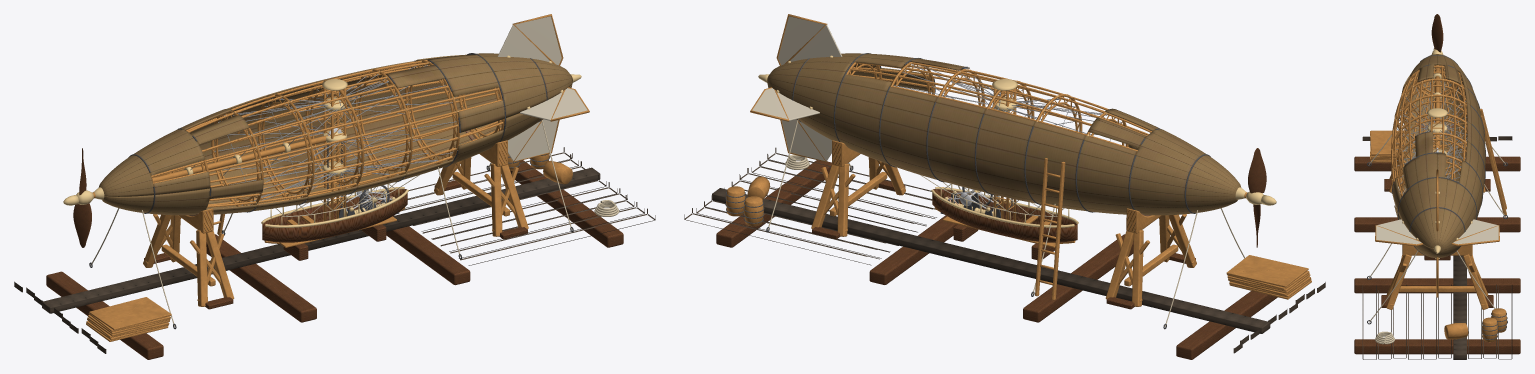
The model's file is kostovich-rossiya.glb.
3 views of the same model, side by side, from view 1: azimuth 30°, elevation 25°; view 2: azimuth 150°, elevation 25°; view 3: azimuth 270°, elevation 25° (orthographic). The views are drawn at different scales.
Parts seen in each view (by area): view 1: obolochka-obshivka-lak, karkas-iz-arborita-arborit, stapel-arborit, stapel-nastil, stapel-lodka-lak, obolochka-tkan-ruley, shahta-i-trosy-tros-stalnoj, gondola-lodka-lak, shahta-i-trosy-arborit, stapel-verevka-penka, gondola-latun, val-i-vint-arborit (+5 smaller); view 2: obolochka-obshivka-lak, stapel-arborit, stapel-nastil, stapel-lodka-lak, karkas-iz-arborita-arborit, obolochka-tkan-ruley, gondola-lodka-lak, obolochka-chugun, shahta-i-trosy-tros-stalnoj, gondola-latun, stapel-verevka-penka, val-i-vint-lodka-lak (+2 smaller); view 3: obolochka-obshivka-lak, stapel-lodka-lak, karkas-iz-arborita-arborit, stapel-arborit, stapel-nastil, obolochka-tkan-ruley, shahta-i-trosy-tros-stalnoj, obolochka-chugun, obolochka-arborit, stapel-verevka-penka, val-i-vint-lodka-lak, shahta-i-trosy-latun (+5 smaller).
Part boxes in pixels (x1,y1,x2,y2): obolochka-obshivka-lak: (98,53,572,215); karkas-iz-arborita-arborit: (151,60,504,207); stapel-arborit: (86,131,572,341); stapel-nastil: (14,147,655,353); stapel-lodka-lak: (46,160,623,359); obolochka-tkan-ruley: (497,16,587,161); shahta-i-trosy-tros-stalnoj: (214,65,456,205); gondola-lodka-lak: (262,189,407,242); shahta-i-trosy-arborit: (323,88,346,221); stapel-verevka-penka: (90,119,619,326); gondola-latun: (261,184,408,227); val-i-vint-arborit: (92,135,328,198); obolochka-obshivka-lak: (767,53,1241,215); stapel-arborit: (726,140,1311,306); stapel-nastil: (684,147,1325,353); stapel-lodka-lak: (716,160,1277,359); karkas-iz-arborita-arborit: (846,61,1152,151); obolochka-tkan-ruley: (752,16,842,161); gondola-lodka-lak: (932,189,1077,242); obolochka-chugun: (792,53,1210,213); shahta-i-trosy-tros-stalnoj: (894,65,1121,134); gondola-latun: (931,184,1078,227); stapel-verevka-penka: (767,119,1244,326); val-i-vint-lodka-lak: (1248,148,1266,247); obolochka-obshivka-lak: (1392,54,1485,257); stapel-lodka-lak: (1354,156,1520,354); karkas-iz-arborita-arborit: (1391,65,1467,197); stapel-arborit: (1370,108,1507,342); stapel-nastil: (1362,136,1512,359); obolochka-tkan-ruley: (1376,219,1498,244); shahta-i-trosy-tros-stalnoj: (1396,82,1467,193); obolochka-chugun: (1391,55,1485,255); obolochka-arborit: (1375,169,1499,297); stapel-verevka-penka: (1369,113,1505,344); val-i-vint-lodka-lak: (1431,14,1443,52); shahta-i-trosy-latun: (1427,108,1447,177).
Size of the model in its own units: 3.95 by 1.36 by 1.27.
12 materials, 4 textured.
